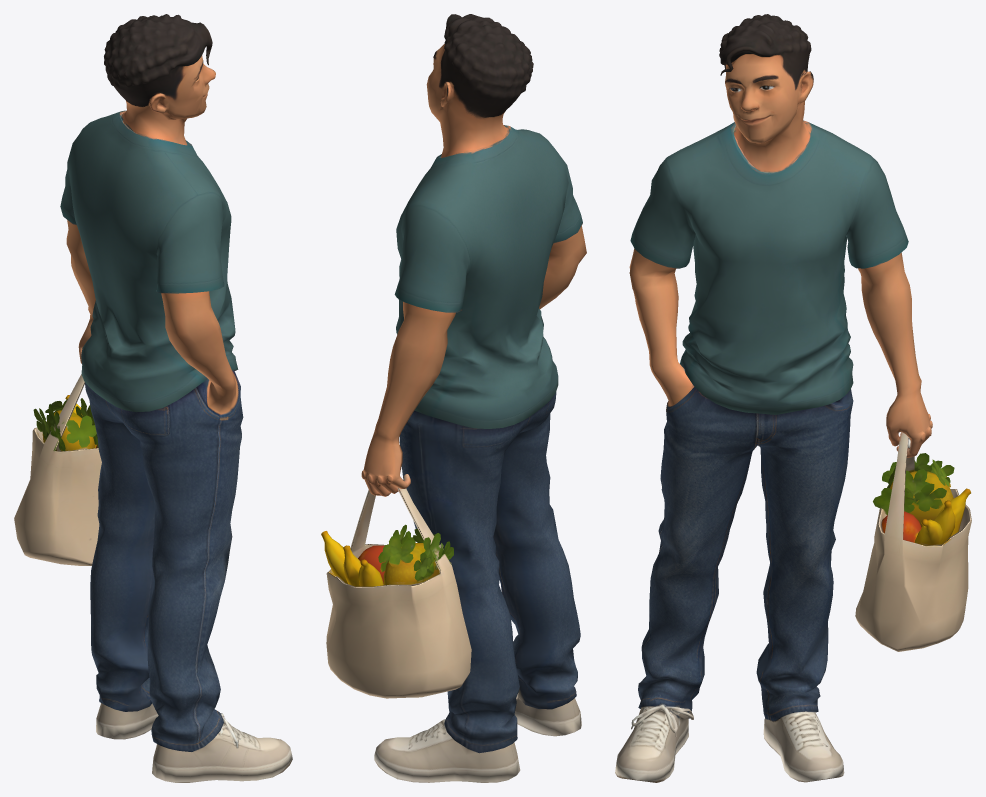
Rendered from tripo_convert_5a11bddb-e21a-48db-b287-ef58c00b4610.glb.
3 renders of one model, left to right at view 1: azimuth 30°, elevation 25°; view 2: azimuth 150°, elevation 25°; view 3: azimuth 270°, elevation 25°, orthographic. The views are drawn at different scales.
Visible parts, largest first — view 1: tripo_node_5a11bddb-e21a-48db-b287-ef58c00b4610; view 2: tripo_node_5a11bddb-e21a-48db-b287-ef58c00b4610; view 3: tripo_node_5a11bddb-e21a-48db-b287-ef58c00b4610.
Boxes of the visible parts, x1=… form: tripo_node_5a11bddb-e21a-48db-b287-ef58c00b4610: x1=14, y1=14, x2=292, y2=782; tripo_node_5a11bddb-e21a-48db-b287-ef58c00b4610: x1=321, y1=14, x2=586, y2=782; tripo_node_5a11bddb-e21a-48db-b287-ef58c00b4610: x1=615, y1=14, x2=971, y2=782.
Size of the model in its own units: 0.1938 by 0.9995 by 0.4409.
1 material, 1 textured.
